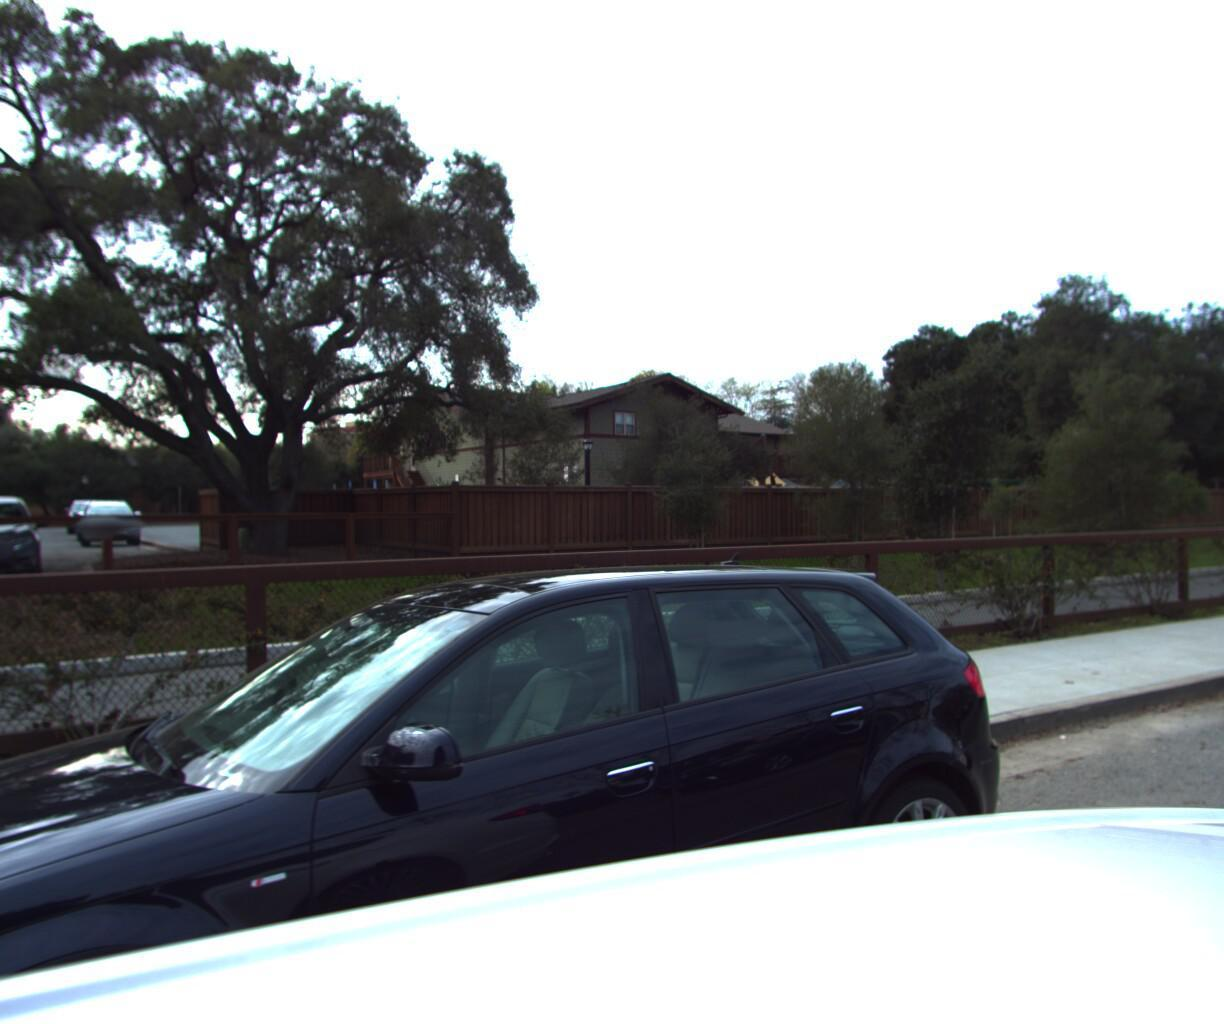car: (0, 534, 1083, 1024)
